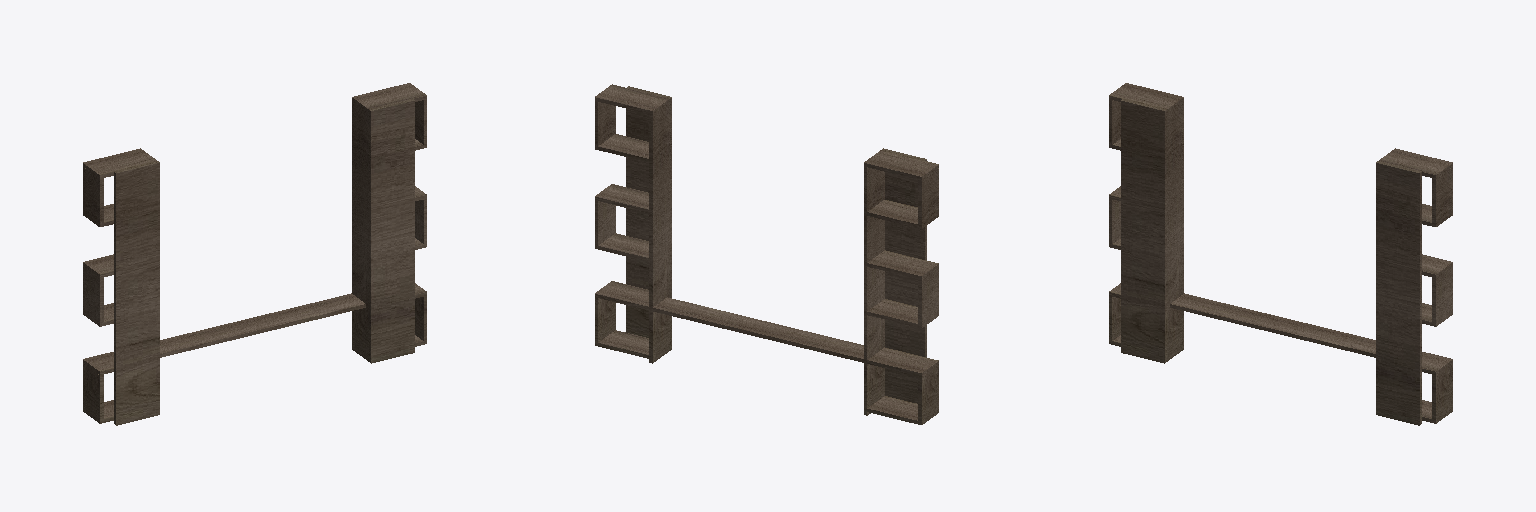
3 renders of one model, left to right at view 1: azimuth 30°, elevation 25°; view 2: azimuth 150°, elevation 25°; view 3: azimuth 330°, elevation 25°, orthographic.
Visible parts, largest first — view 1: Layer:0; view 2: Layer:0; view 3: Layer:0.
Part boxes in pixels (left/top/right/bottom): Layer:0: left=83, top=83, right=426, bottom=425; Layer:0: left=595, top=84, right=938, bottom=424; Layer:0: left=1109, top=83, right=1452, bottom=425.
Size of the model in its own units: 89.91 by 66.22 by 9.31.
Materials: 1 (1 with a texture image).